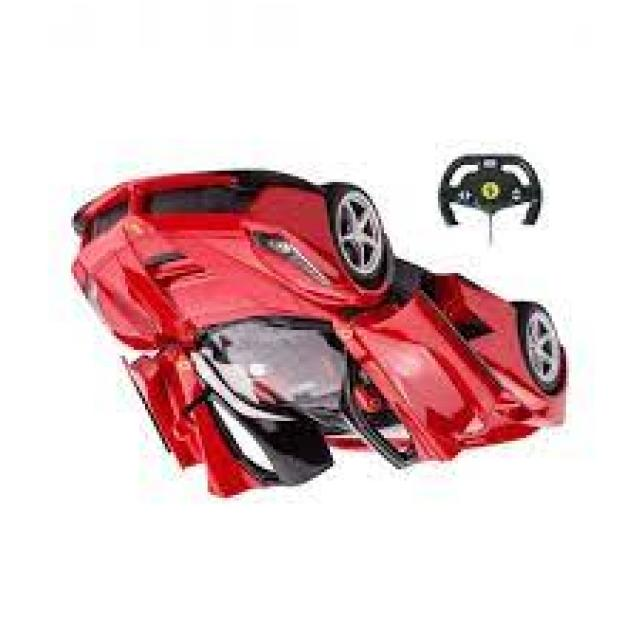Car: (71, 170, 572, 500)
